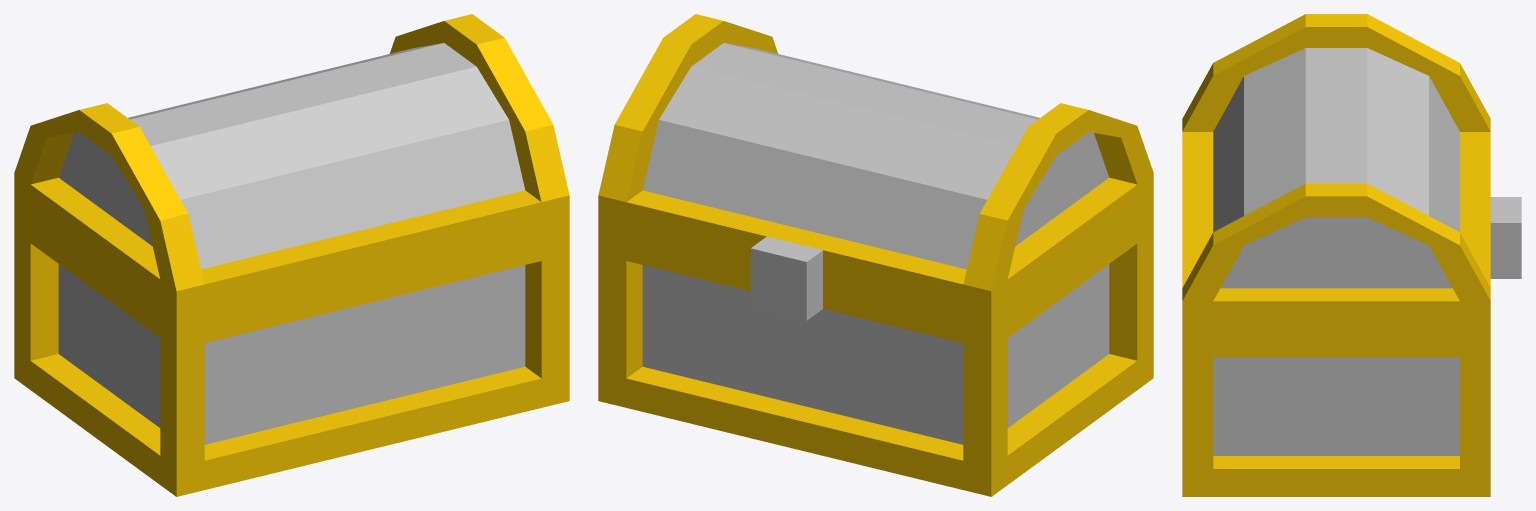
The model's file is ChestClosed.obj.
The picture shows the model from 3 angles, left to right: view 1: azimuth 30°, elevation 25°; view 2: azimuth 150°, elevation 25°; view 3: azimuth 270°, elevation 25°; orthographic projection. The views are drawn at different scales.
Visible parts, largest first — view 1: ChestClosed_back; view 2: ChestClosed_back; view 3: ChestClosed_back.
Boxes of the visible parts, bbox=[...] form: ChestClosed_back: bbox=[14, 14, 569, 496]; ChestClosed_back: bbox=[598, 14, 1153, 496]; ChestClosed_back: bbox=[1182, 14, 1521, 496].
Bounding box in the file's own units: 1.12 × 0.86 × 0.88.
